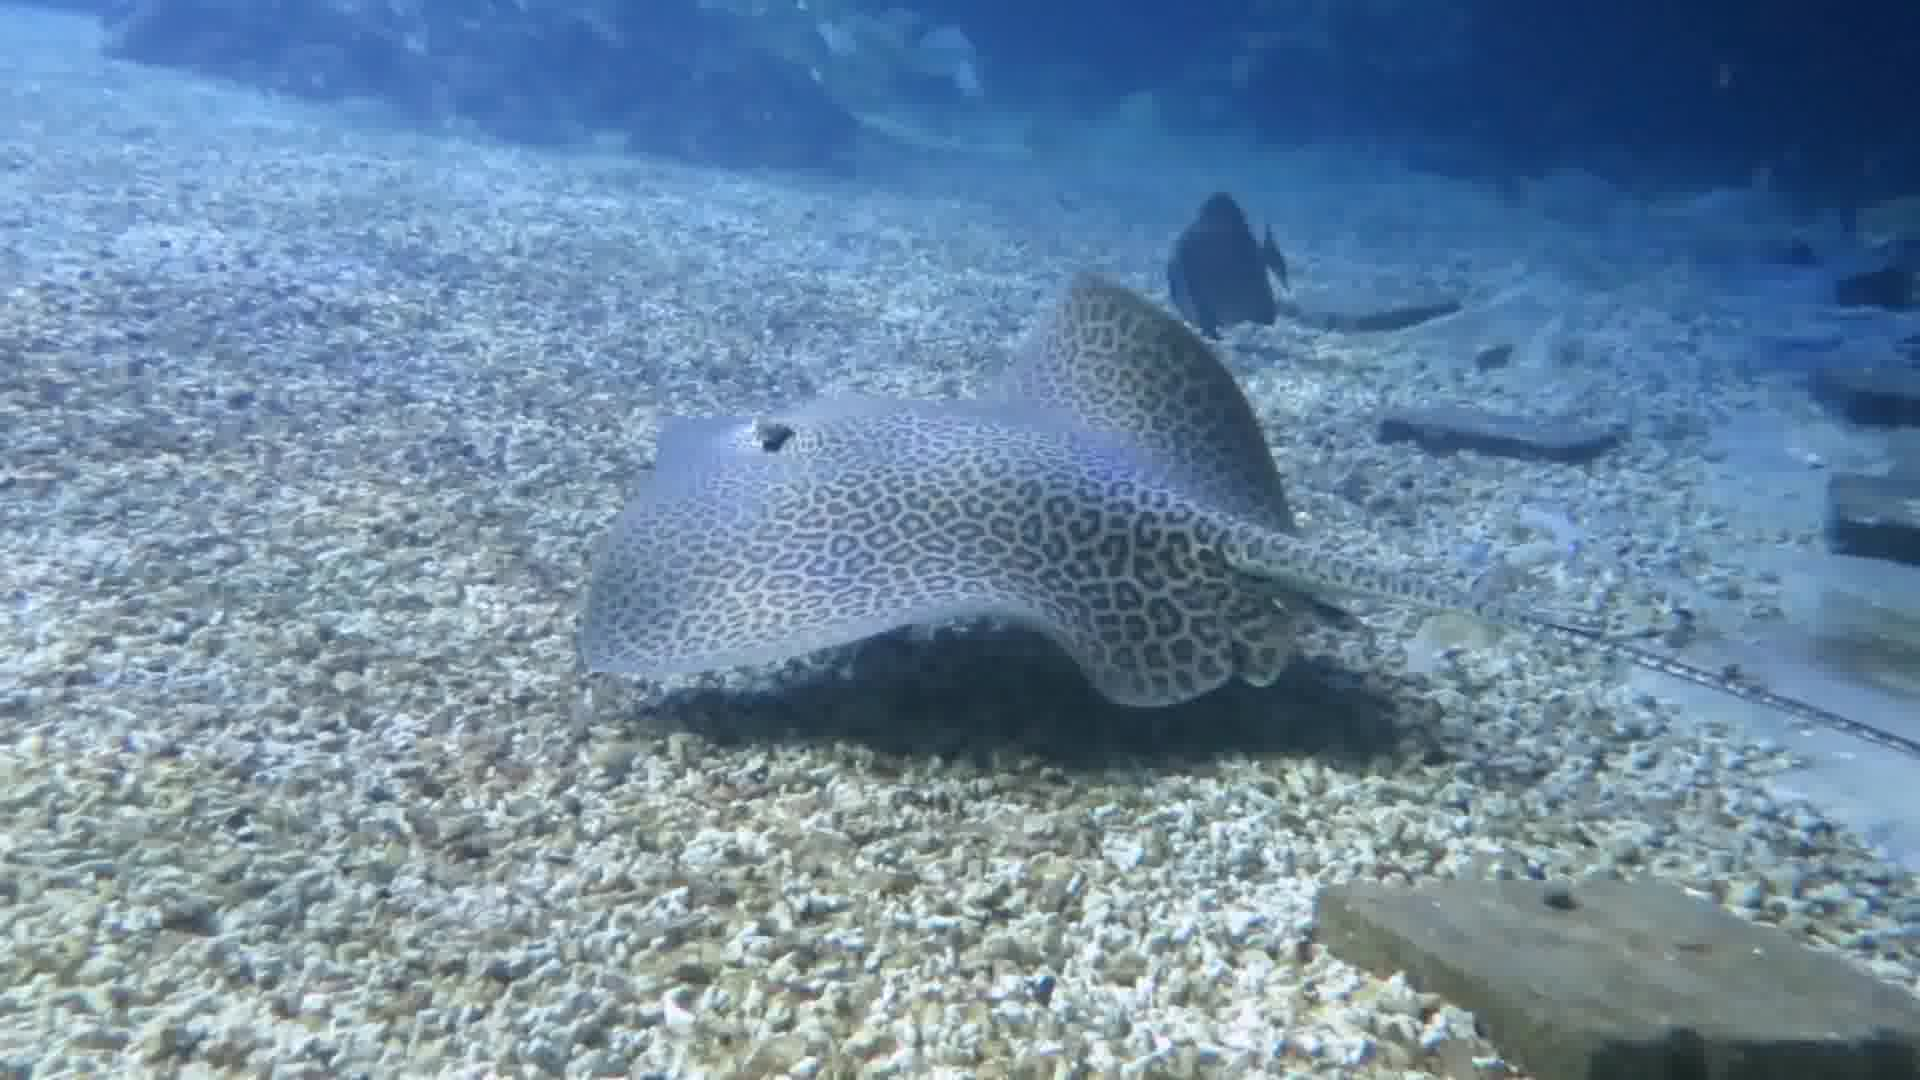Himantura uarnak: (578, 272, 1920, 853)
